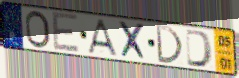A: (86, 18, 120, 58)
D: (184, 28, 215, 70), (154, 24, 184, 66)
E: (50, 10, 81, 54)
O: (24, 10, 52, 51)
X: (117, 20, 149, 63)
